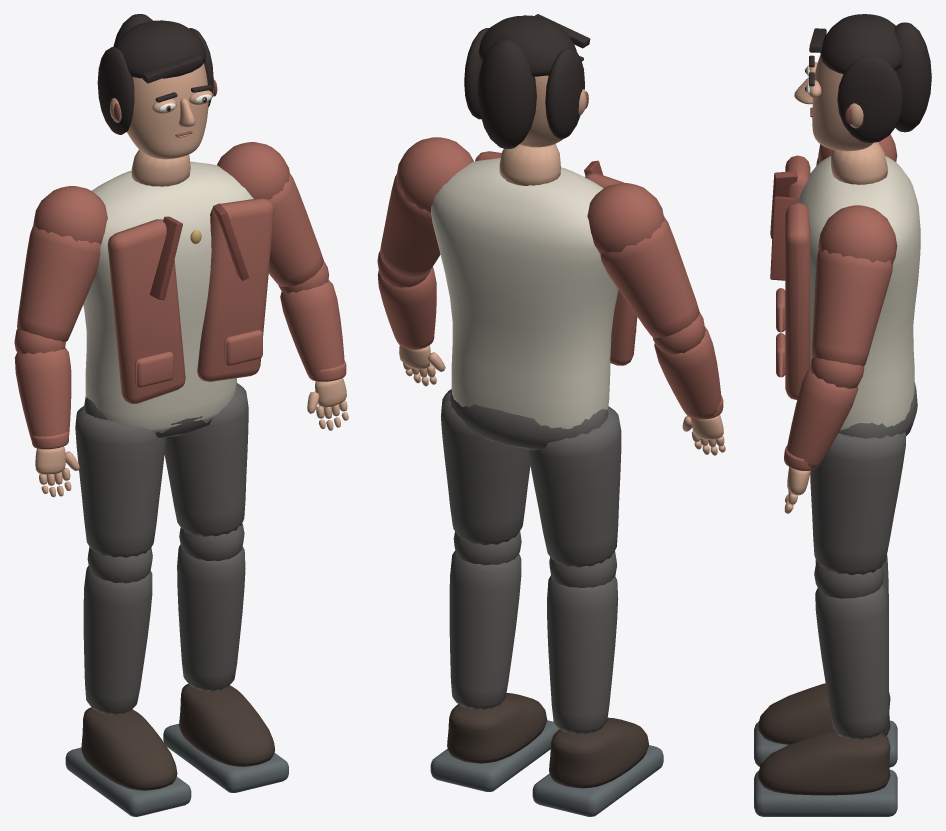
The model's file is Mara_Victim.fbx.
3 renders of one model, left to right at view 1: azimuth 30°, elevation 25°; view 2: azimuth 150°, elevation 25°; view 3: azimuth 270°, elevation 25°, orthographic. The views are drawn at different scales.
Parts seen in each view (by area): view 1: Mara_Victim_Chest, Mara_Victim_Head, Mara_Victim_Thigh_R, Mara_Victim_UpperArm_R, Mara_Victim_Calf_R, Mara_Victim_Calf_L, Mara_Victim_Thigh_L, Mara_Victim_Foot_R, Mara_Victim_Foot_L, Mara_Victim_UpperArm_L, Mara_Victim_Forearm_R, Mara_Victim_Forearm_L (+4 smaller); view 2: Mara_Victim_Chest, Mara_Victim_Head, Mara_Victim_Calf_R, Mara_Victim_Calf_L, Mara_Victim_Thigh_R, Mara_Victim_UpperArm_R, Mara_Victim_Thigh_L, Mara_Victim_Foot_R, Mara_Victim_Foot_L, Mara_Victim_UpperArm_L, Mara_Victim_Forearm_R, Mara_Victim_Forearm_L (+4 smaller); view 3: Mara_Victim_Chest, Mara_Victim_Head, Mara_Victim_Calf_L, Mara_Victim_Thigh_L, Mara_Victim_UpperArm_L, Mara_Victim_Foot_L, Mara_Victim_Forearm_L, Mara_Victim_Foot_R, Mara_Victim_Neck, Mara_Victim_Hips, Mara_Victim_Hand_L, Mara_Victim_UpperArm_R.
Part boxes in pixels (box(x1,y1,x2,y2)): Mara_Victim_Chest: box(83, 161, 274, 432); Mara_Victim_Head: box(97, 14, 217, 159); Mara_Victim_Thigh_R: box(75, 406, 165, 557); Mara_Victim_UpperArm_R: box(17, 186, 107, 341); Mara_Victim_Calf_R: box(83, 547, 152, 715); Mara_Victim_Calf_L: box(177, 523, 245, 691); Mara_Victim_Thigh_L: box(164, 383, 248, 536); Mara_Victim_Foot_R: box(65, 707, 191, 816); Mara_Victim_Foot_L: box(163, 684, 288, 792); Mara_Victim_UpperArm_L: box(217, 142, 323, 286); Mara_Victim_Forearm_R: box(14, 328, 71, 449); Mara_Victim_Forearm_L: box(278, 261, 346, 381); Mara_Victim_Chest: box(431, 151, 637, 428); Mara_Victim_Head: box(464, 14, 590, 148); Mara_Victim_Calf_R: box(547, 551, 618, 734); Mara_Victim_Calf_L: box(449, 531, 521, 709); Mara_Victim_Thigh_R: box(528, 406, 621, 567); Mara_Victim_UpperArm_R: box(587, 183, 699, 337); Mara_Victim_Thigh_L: box(441, 389, 530, 545); Mara_Victim_Foot_R: box(532, 717, 663, 816); Mara_Victim_Foot_L: box(430, 693, 559, 791); Mara_Victim_UpperArm_L: box(380, 137, 473, 277); Mara_Victim_Forearm_R: box(652, 312, 723, 419); Mara_Victim_Forearm_L: box(377, 250, 436, 349); Mara_Victim_Chest: box(770, 155, 920, 430); Mara_Victim_Head: box(794, 14, 931, 151); Mara_Victim_Calf_L: box(814, 561, 888, 739); Mara_Victim_Thigh_L: box(810, 432, 905, 575); Mara_Victim_UpperArm_L: box(812, 205, 897, 365); Mara_Victim_Foot_L: box(754, 731, 897, 816); Mara_Victim_Forearm_L: box(784, 357, 864, 470); Mara_Victim_Foot_R: box(754, 683, 897, 767); Mara_Victim_Neck: box(831, 142, 887, 184); Mara_Victim_Hips: box(838, 382, 917, 438); Mara_Victim_Hand_L: box(784, 467, 810, 513); Mara_Victim_UpperArm_R: box(816, 134, 897, 165).
Bounding box in the file's own units: 0.8261 × 1.84 × 0.391.
